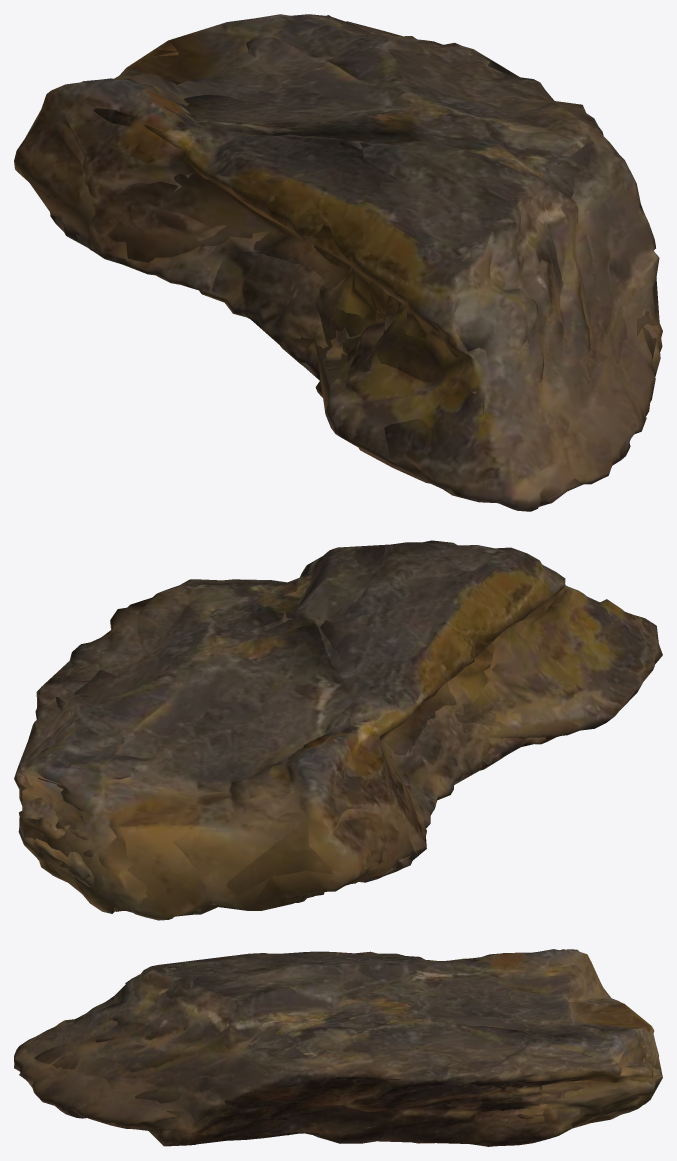
Rendered from rock_09.glb.
3 views of the same model, one above another, from view 1: azimuth 30°, elevation 25°; view 2: azimuth 150°, elevation 25°; view 3: azimuth 270°, elevation 25° (orthographic). The views are drawn at different scales.
Parts seen in each view (by area): view 1: rock_09_LOD0, rock_09_LOD0_lo; view 2: rock_09_LOD0, rock_09_LOD0_lo; view 3: rock_09_LOD0, rock_09_LOD0_lo.
Part boxes in pixels (x1,y1,x2,y2): rock_09_LOD0: (14, 14, 662, 511); rock_09_LOD0_lo: (14, 17, 659, 508); rock_09_LOD0: (14, 540, 662, 920); rock_09_LOD0_lo: (18, 544, 652, 914); rock_09_LOD0: (14, 949, 662, 1146); rock_09_LOD0_lo: (18, 953, 662, 1146).
Bounding box in the file's own units: 0.074 × 0.0328 × 0.1446.
Materials: 1 (1 with a texture image).
